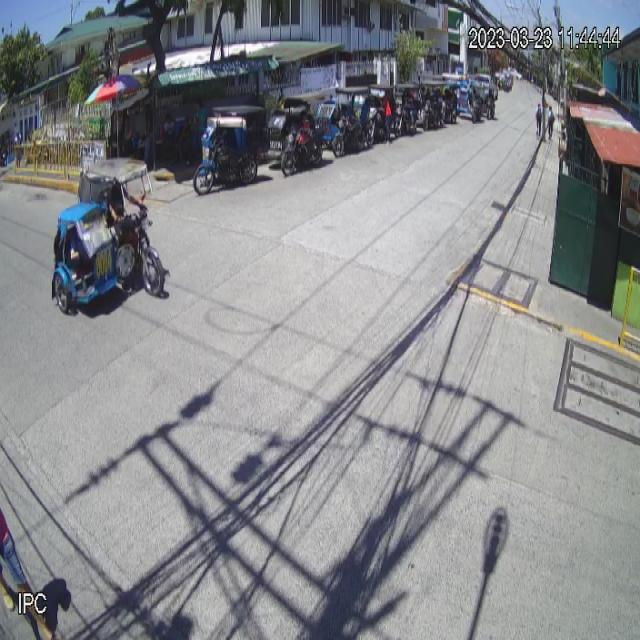Tricycle: (49, 159, 167, 315)
